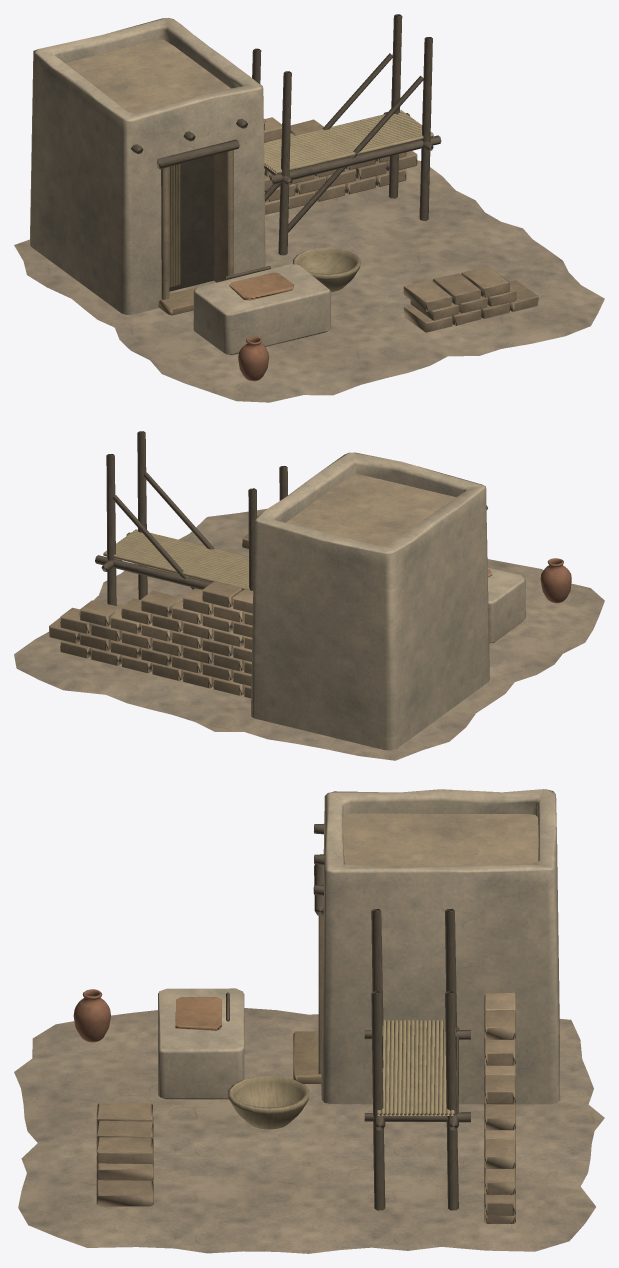
File: master-house.glb
3 views of the same model, one above another, from view 1: azimuth 30°, elevation 25°; view 2: azimuth 150°, elevation 25°; view 3: azimuth 270°, elevation 25° (orthographic). The views are drawn at different scales.
Visible parts, largest first — view 1: master-house; view 2: master-house; view 3: master-house.
Part boxes in pixels (x1,y1,x2,y2): master-house: (14, 14, 604, 402); master-house: (14, 431, 604, 760); master-house: (14, 789, 604, 1253).
Size of the model in its own units: 4.97 by 2.27 by 5.06.
5 materials, 5 textured.
